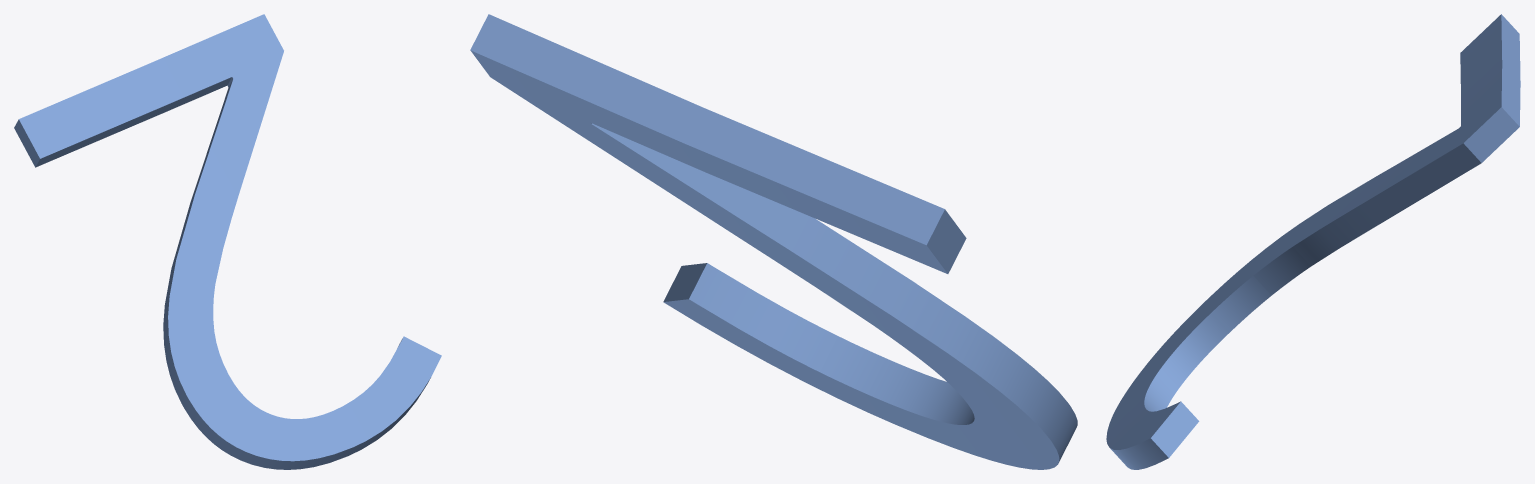
The model's file is New_Number_2.gltf.
3 views of the same model, side by side, from view 1: azimuth 30°, elevation 25°; view 2: azimuth 150°, elevation 25°; view 3: azimuth 270°, elevation 25° (orthographic). The views are drawn at different scales.
Visible parts, largest first — view 1: Part 200; view 2: Part 200; view 3: Part 200.
Boxes of the visible parts, x1=… form: Part 200: x1=14, y1=14, x2=441, y2=469; Part 200: x1=470, y1=14, x2=1077, y2=469; Part 200: x1=1106, y1=14, x2=1520, y2=469.
Size of the model in its own units: 0.00378 by 0.00405 by 0.00382.
